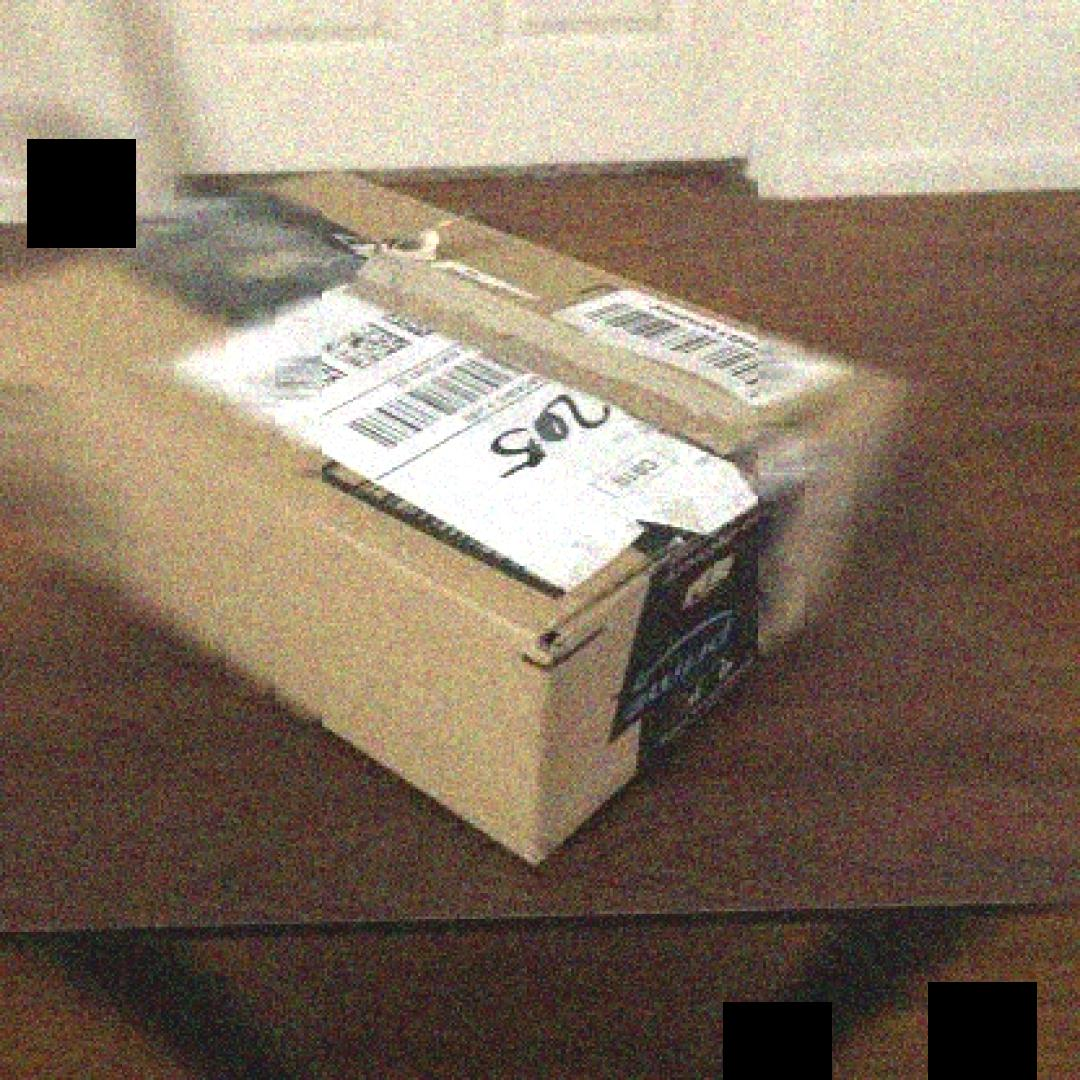package: (0, 161, 914, 880)
